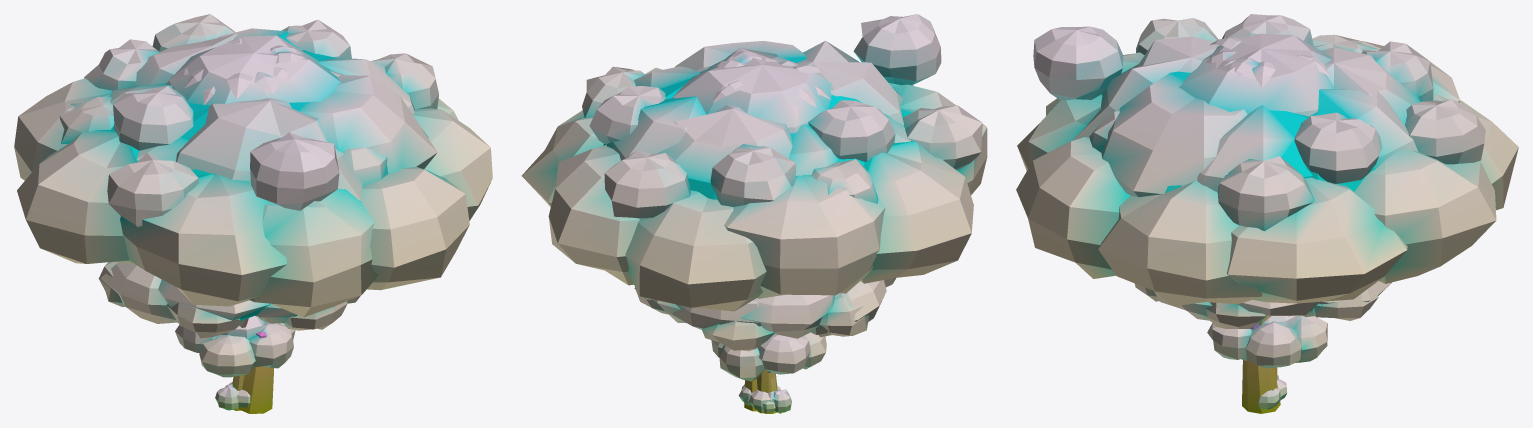
The model's file is trees.glb.
The picture shows the model from 3 angles, left to right: view 1: azimuth 30°, elevation 25°; view 2: azimuth 150°, elevation 25°; view 3: azimuth 270°, elevation 25°; orthographic projection. The views are drawn at different scales.
Parts seen in each view (by area): view 1: trees__rain_tree__LOD0, trees__flame_tree__LOD0, trees__frangipani__LOD0, trees__royal_palm__LOD0, trees__shrub_hedge__LOD0; view 2: trees__rain_tree__LOD0, trees__flame_tree__LOD0, trees__frangipani__LOD0, trees__royal_palm__LOD0, trees__shrub_hedge__LOD0, trees__shrub_round__LOD0; view 3: trees__rain_tree__LOD0, trees__frangipani__LOD0, trees__flame_tree__LOD0, trees__royal_palm__LOD0.
Boxes of the visible parts, x1,y1,x2,y2 form: trees__rain_tree__LOD0: (14, 14, 492, 413); trees__flame_tree__LOD0: (98, 262, 360, 410); trees__frangipani__LOD0: (175, 316, 295, 377); trees__royal_palm__LOD0: (173, 38, 305, 104); trees__shrub_hedge__LOD0: (215, 383, 238, 410); trees__rain_tree__LOD0: (521, 14, 987, 411); trees__flame_tree__LOD0: (634, 278, 895, 413); trees__frangipani__LOD0: (711, 332, 826, 381); trees__royal_palm__LOD0: (712, 51, 831, 392); trees__shrub_hedge__LOD0: (738, 385, 791, 413); trees__shrub_round__LOD0: (749, 386, 780, 412); trees__rain_tree__LOD0: (1016, 14, 1518, 413); trees__frangipani__LOD0: (1207, 315, 1327, 368); trees__flame_tree__LOD0: (1134, 281, 1391, 328); trees__royal_palm__LOD0: (1206, 37, 1330, 371).
Size of what is drawn, in the model's own units: 20.4 by 16 by 20.4.
